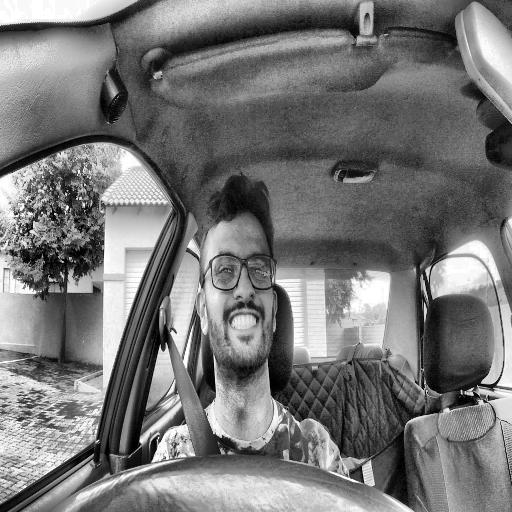awake: (195, 173, 278, 394)
